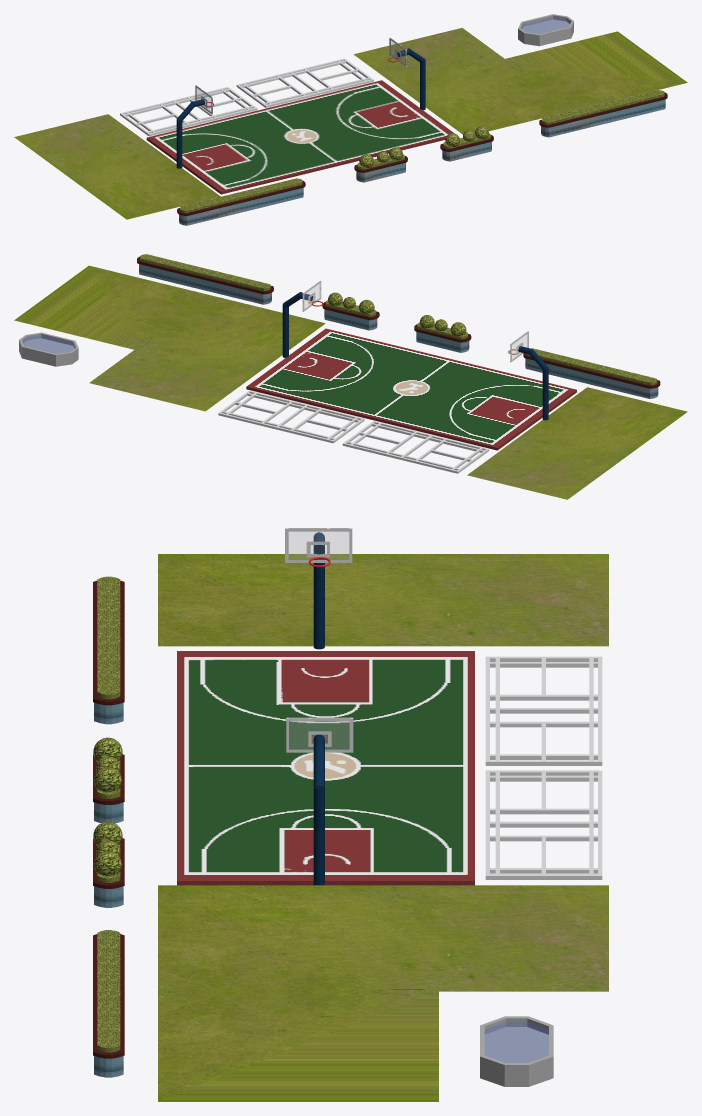
File: basketballField.fbx
3 views of the same model, one above another, from view 1: azimuth 30°, elevation 25°; view 2: azimuth 150°, elevation 25°; view 3: azimuth 270°, elevation 25° (orthographic). The views are drawn at different scales.
Visible parts, largest first — view 1: 平面.042, 籃球場, 平面.043, 立方体.418, 立方体.419, 排球場.001, 排球場, 立方体.413, 立方体.414, 立方体.415, 籃球架, 籃球架.001; view 2: 平面.042, 籃球場, 平面.043, 立方体.419, 立方体.418, 排球場, 排球場.001, 立方体.413, 立方体.415, 立方体.414, 籃球架, 籃球架.001; view 3: 平面.042, 籃球場, 平面.043, 排球場.001, 排球場, 立方体.413, 立方体.418, 立方体.419, 籃球架.001, 籃球架, 立方体.415, 立方体.414.
Boxes of the visible parts, x1=… form: 平面.042: x1=353, y1=28, x2=687, y2=134; 籃球場: x1=146, y1=80, x2=453, y2=194; 平面.043: x1=14, y1=114, x2=220, y2=219; 立方体.418: x1=177, y1=178, x2=305, y2=225; 立方体.419: x1=539, y1=90, x2=667, y2=137; 排球場.001: x1=236, y1=58, x2=373, y2=107; 排球場: x1=120, y1=87, x2=257, y2=136; 立方体.413: x1=518, y1=14, x2=573, y2=46; 立方体.414: x1=354, y1=154, x2=407, y2=182; 立方体.415: x1=440, y1=133, x2=493, y2=161; 籃球架: x1=176, y1=85, x2=213, y2=168; 籃球架.001: x1=388, y1=37, x2=425, y2=110; 平面.042: x1=14, y1=265, x2=325, y2=411; 籃球場: x1=246, y1=328, x2=576, y2=450; 平面.043: x1=467, y1=387, x2=687, y2=499; 立方体.419: x1=137, y1=254, x2=273, y2=304; 立方体.418: x1=523, y1=348, x2=660, y2=398; 排球場: x1=342, y1=421, x2=489, y2=473; 排球場.001: x1=218, y1=390, x2=364, y2=443; 立方体.413: x1=19, y1=332, x2=78, y2=366; 立方体.415: x1=322, y1=300, x2=379, y2=330; 立方体.414: x1=414, y1=322, x2=471, y2=352; 籃球架: x1=508, y1=331, x2=548, y2=420; 籃球架.001: x1=282, y1=280, x2=323, y2=357; 平面.042: x1=158, y1=885, x2=608, y2=1101; 籃球場: x1=177, y1=651, x2=474, y2=885; 平面.043: x1=158, y1=554, x2=608, y2=646; 排球場.001: x1=485, y1=770, x2=602, y2=879; 排球場: x1=485, y1=656, x2=602, y2=765; 立方体.413: x1=480, y1=1016, x2=553, y2=1086; 立方体.418: x1=93, y1=576, x2=124, y2=724; 立方体.419: x1=93, y1=930, x2=124, y2=1077; 籃球架.001: x1=286, y1=717, x2=353, y2=885; 籃球架: x1=285, y1=528, x2=352, y2=649; 立方体.415: x1=93, y1=838, x2=124, y2=907; 立方体.414: x1=93, y1=754, x2=124, y2=823.
Bounding box in the file's own units: 4462 × 578 × 1777.
11 materials, 4 textured.
